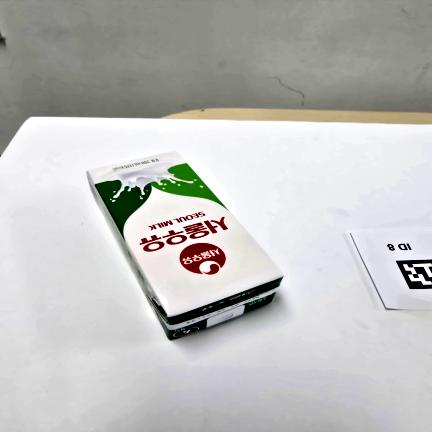milk_green: (88, 150, 285, 341)
